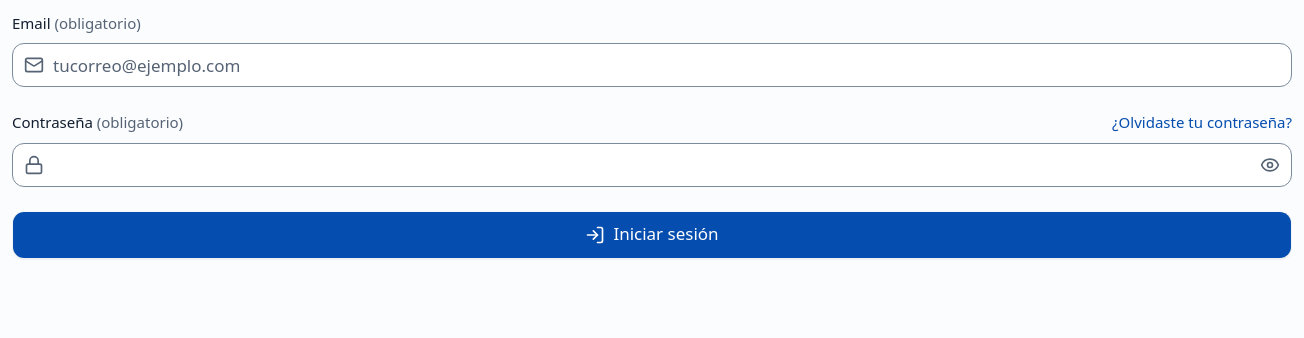
it: LoginForm — errores › borra el error del campo en cuanto el usuario empieza a corregirlo
Step 1. Click the button "Iniciar sesión" → (652, 234), box [12,210,1292,258]
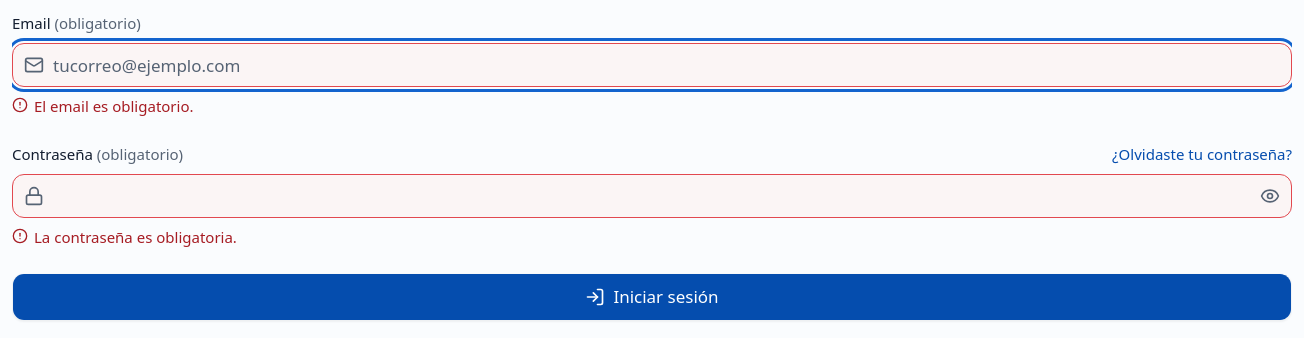
Expected: the text "El email es obligatorio." is shown, [34,95,194,119]
Step 2. Type keys "a"
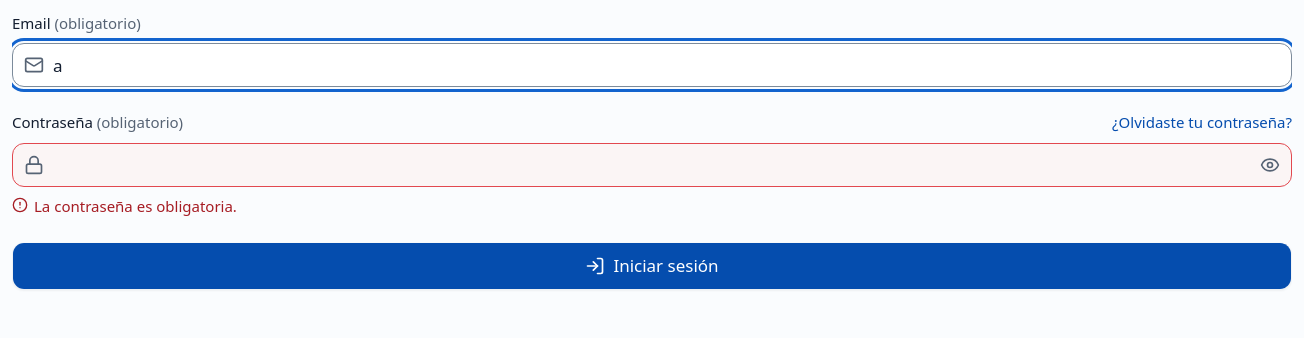
Expected: the text "El email es obligatorio." is gone
